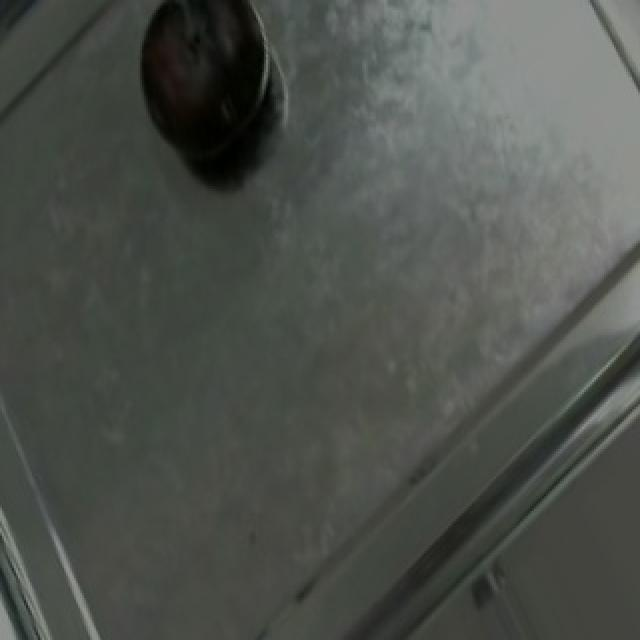Fruit: (118, 0, 284, 179)
